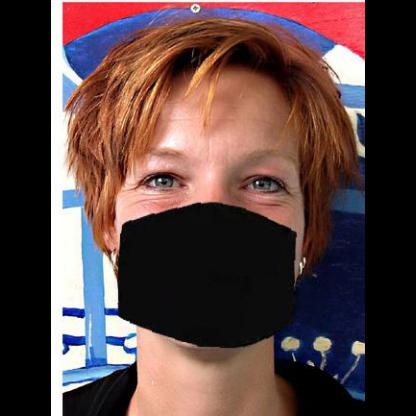Fabric/Cloth Mask: (94, 92, 304, 352)
